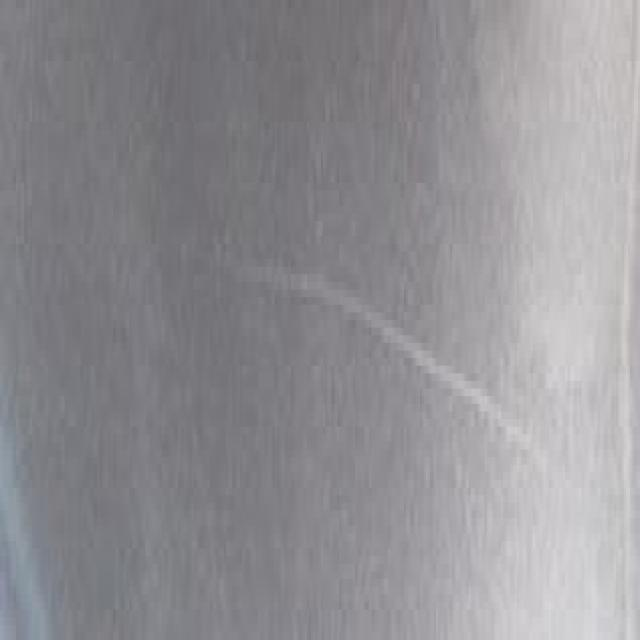scratch: (252, 198, 570, 503)
